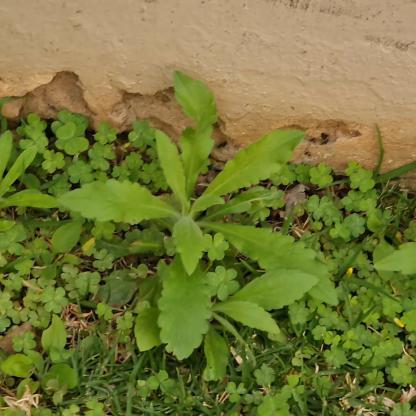Weeds: (58, 71, 338, 379), (0, 127, 58, 253)
